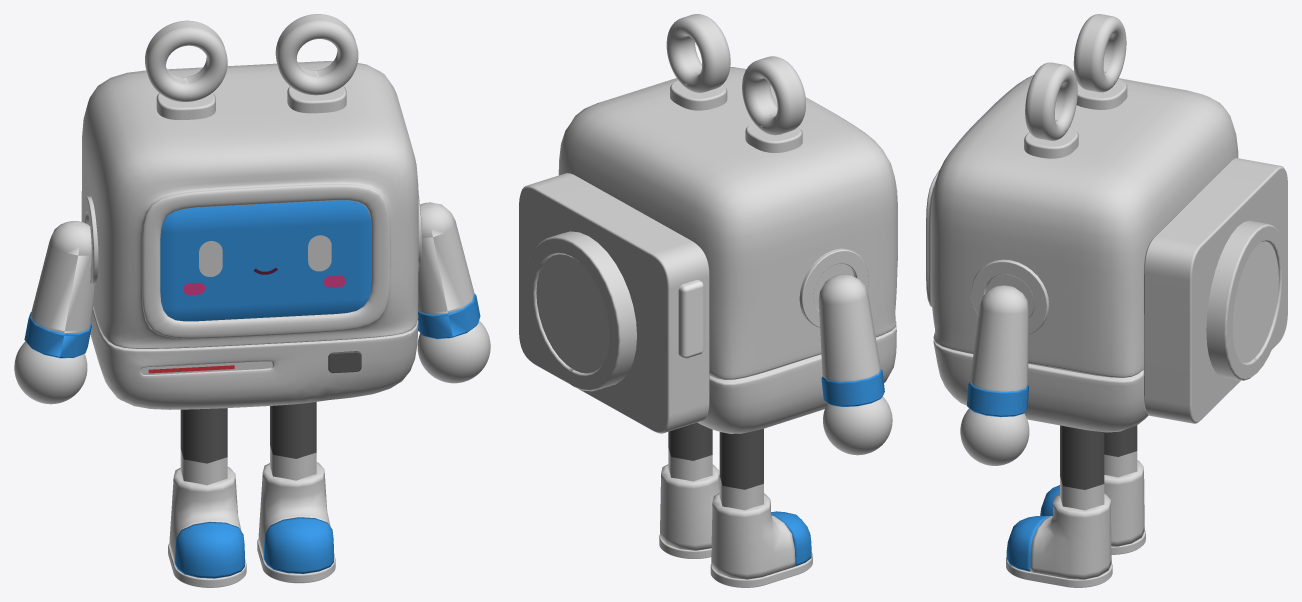
Rendered from robot3.glb.
3 views of the same model, side by side, from view 1: azimuth 30°, elevation 25°; view 2: azimuth 150°, elevation 25°; view 3: azimuth 270°, elevation 25° (orthographic). The views are drawn at different scales.
Visible parts, largest first — view 1: body shape, face.001, Cylinder.001, Cylinder.002, Cylinder.003, Cylinder.004, Cube 6, Cube 6.001, Cube 5.001, Cube 5.002, Sphere 3, Sphere 3.001 (+15 smaller); view 2: body shape, Rectangle 7, Cylinder, Ellipse.001, Cylinder.001, Cube 5.002, Cube 5.001, Cylinder.003, Cylinder.004, Sphere 3, Cylinder 2.003, Cube 5 (+10 smaller); view 3: body shape, Rectangle 7, Cylinder, Cube 5.001, Cylinder.002, Ellipse.001, Cylinder.004, Cylinder.003, Sphere 3.001, Cylinder 2.002, Cube 5.002, Cylinder 3.001 (+8 smaller).
Part boxes in pixels (<box>): body shape: <box>81,61,418,409</box>; face.001: <box>160,200,371,321</box>; Cylinder.001: <box>30,221,94,333</box>; Cylinder.002: <box>418,202,474,314</box>; Cylinder.003: <box>275,14,358,95</box>; Cylinder.004: <box>145,20,227,101</box>; Cube 6: <box>264,517,333,573</box>; Cube 6.001: <box>174,521,244,578</box>; Cube 5.001: <box>258,462,334,558</box>; Cube 5.002: <box>169,467,245,562</box>; Sphere 3: <box>14,341,87,404</box>; Sphere 3.001: <box>417,320,490,383</box>; body shape: <box>558,67,897,433</box>; Rectangle 7: <box>519,173,709,433</box>; Cylinder: <box>524,231,636,391</box>; Ellipse.001: <box>536,254,609,373</box>; Cylinder.001: <box>818,274,880,381</box>; Cube 5.002: <box>711,493,795,579</box>; Cube 5.001: <box>660,464,719,550</box>; Cylinder.003: <box>666,14,730,92</box>; Cylinder.004: <box>742,56,805,135</box>; Sphere 3: <box>823,396,892,455</box>; Cylinder 2.003: <box>719,428,763,489</box>; Cube 5: <box>678,280,704,358</box>; body shape: <box>926,70,1238,432</box>; Rectangle 7: <box>1143,158,1287,423</box>; Cylinder: <box>1206,220,1287,380</box>; Cube 5.001: <box>1030,493,1111,579</box>; Cylinder.002: <box>970,285,1028,391</box>; Ellipse.001: <box>1232,242,1278,362</box>; Cylinder.004: <box>1073,14,1126,92</box>; Cylinder.003: <box>1025,62,1077,140</box>; Sphere 3.001: <box>960,408,1029,465</box>; Cylinder 2.002: <box>1060,425,1104,489</box>; Cube 5.002: <box>1104,460,1144,546</box>; Cylinder 3.001: <box>971,259,1049,335</box>.
Size of the model in its own units: 4.7 by 6.28 by 4.03.
